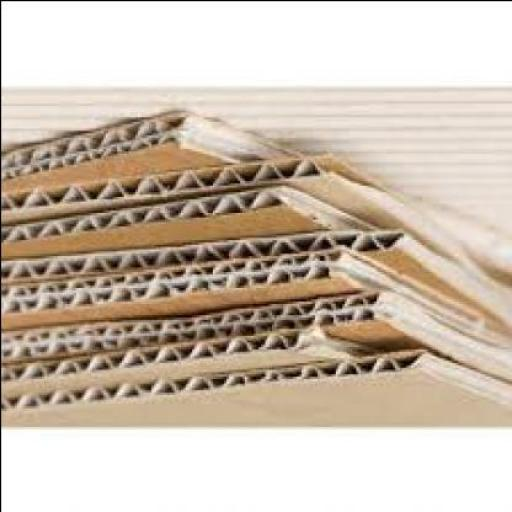cardboard: (2, 232, 511, 338), (2, 250, 511, 347), (2, 293, 511, 385), (2, 348, 511, 431), (2, 150, 511, 232), (2, 191, 511, 261), (2, 332, 367, 392), (2, 112, 298, 160)
